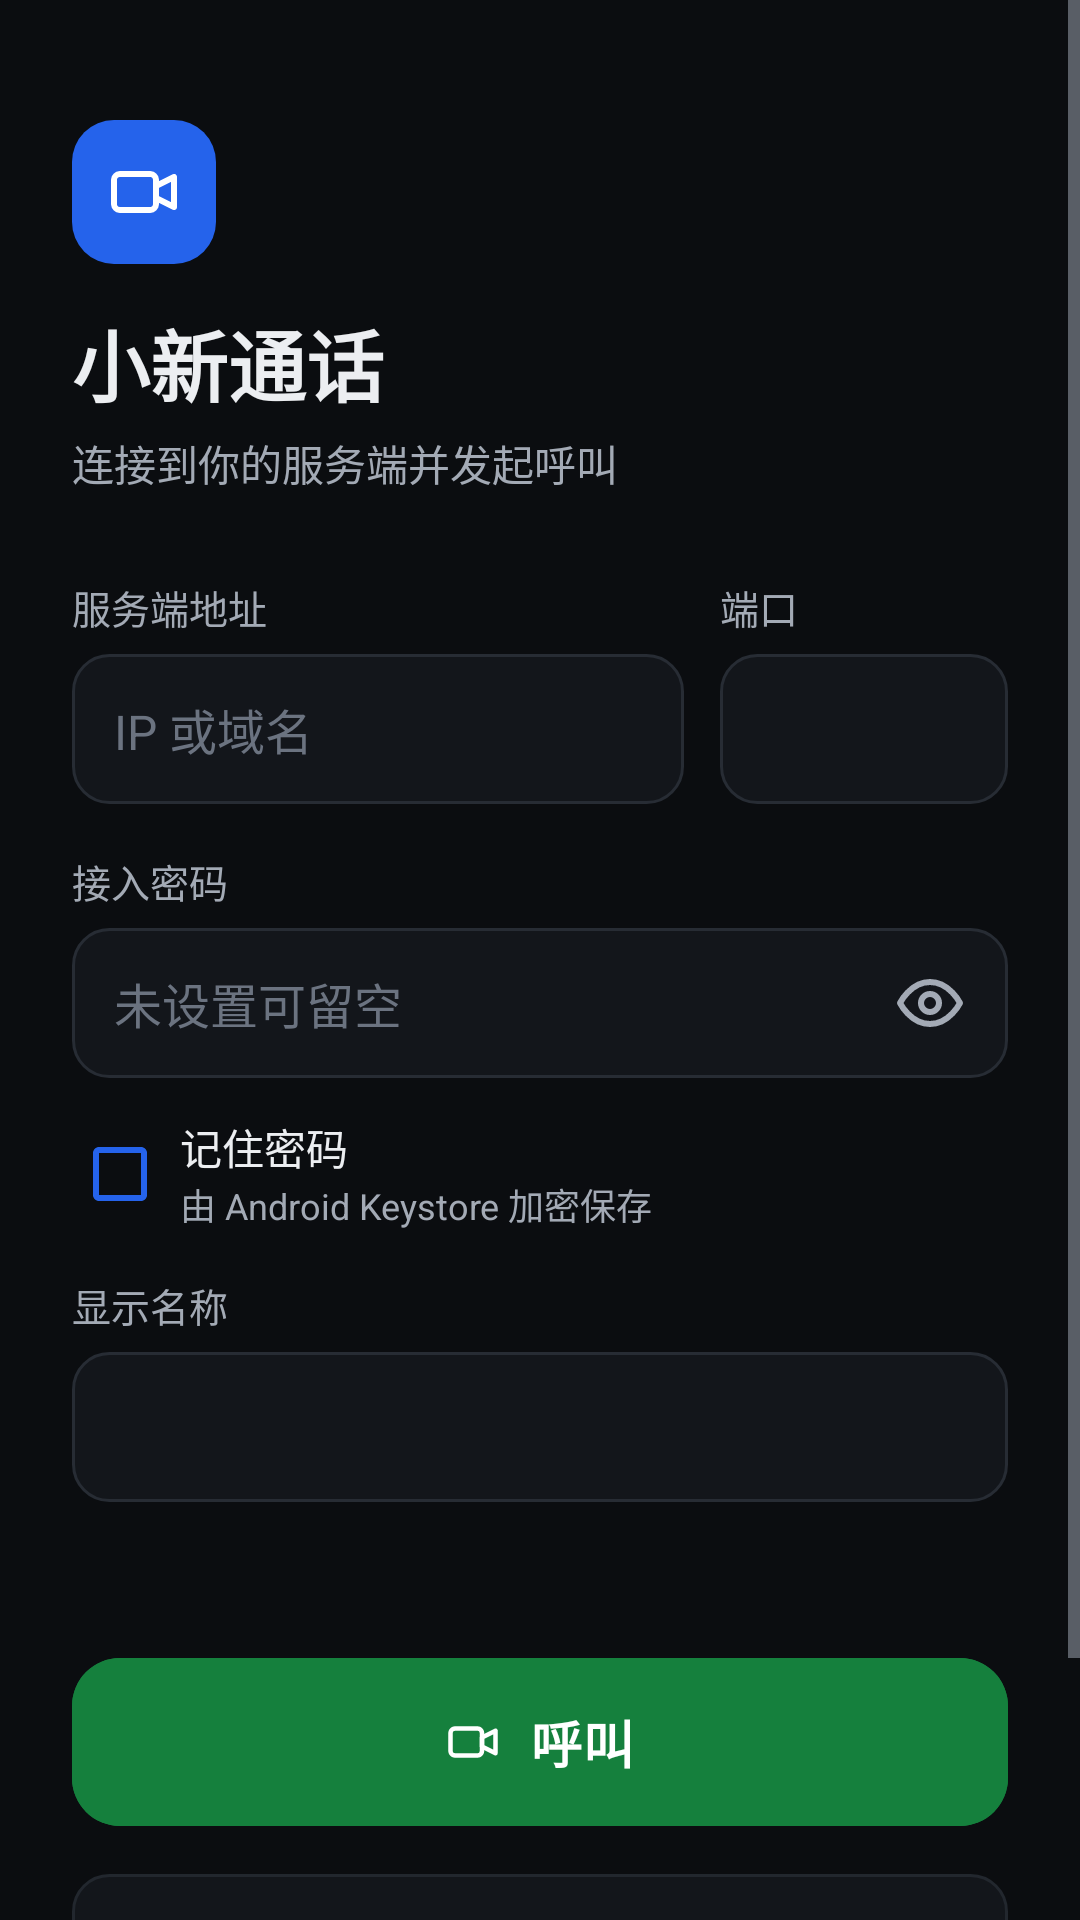

Icons on this 1080 × 1920 Android screen, each with its box as (x1, y1, x2, y2):
显示密码: (897, 979, 963, 1027)
